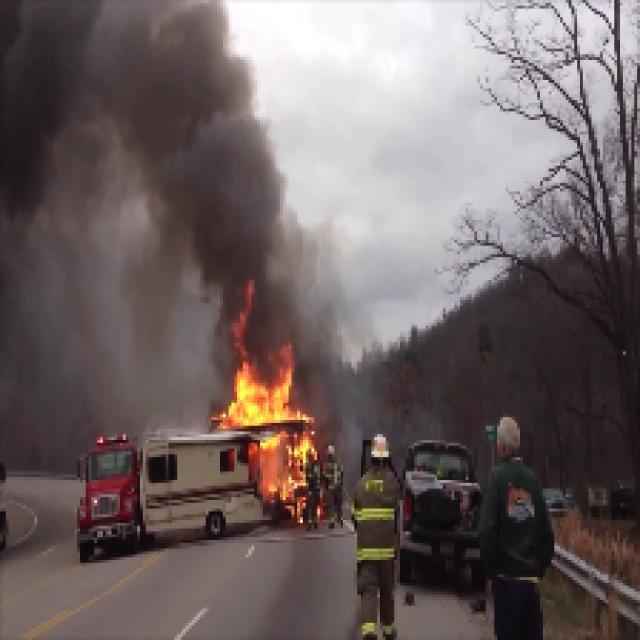fire: (220, 365, 315, 519)
smoke: (0, 0, 274, 291)
